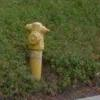Hydrant: (14, 15, 56, 89)
